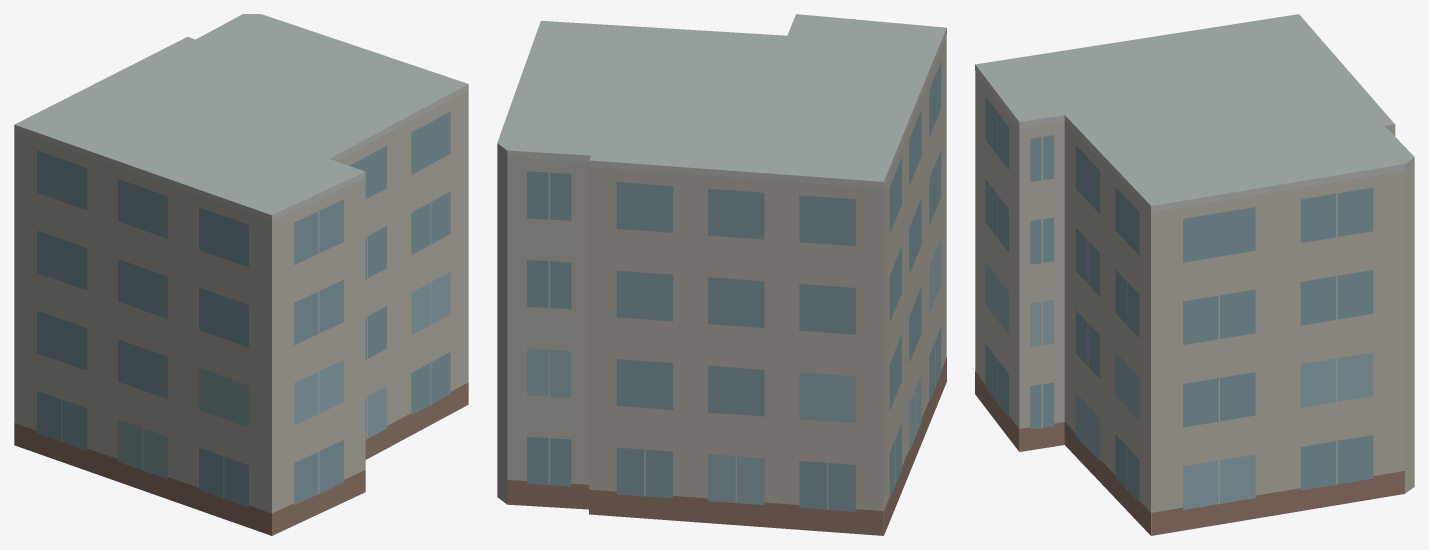
The model's file is survey-upis-32864026.glb.
3 views of the same model, side by side, from view 1: azimuth 30°, elevation 25°; view 2: azimuth 150°, elevation 25°; view 3: azimuth 270°, elevation 25° (orthographic). The views are drawn at different scales.
Visible parts, largest first — view 1: survey-upis-32864026.tmp; view 2: survey-upis-32864026.tmp; view 3: survey-upis-32864026.tmp.
Part boxes in pixels (x1,y1,x2,y2): survey-upis-32864026.tmp: [14, 14, 468, 535]; survey-upis-32864026.tmp: [497, 14, 946, 535]; survey-upis-32864026.tmp: [975, 14, 1414, 535].
Size of the model in its own units: 15.99 by 12.8 by 15.46.
